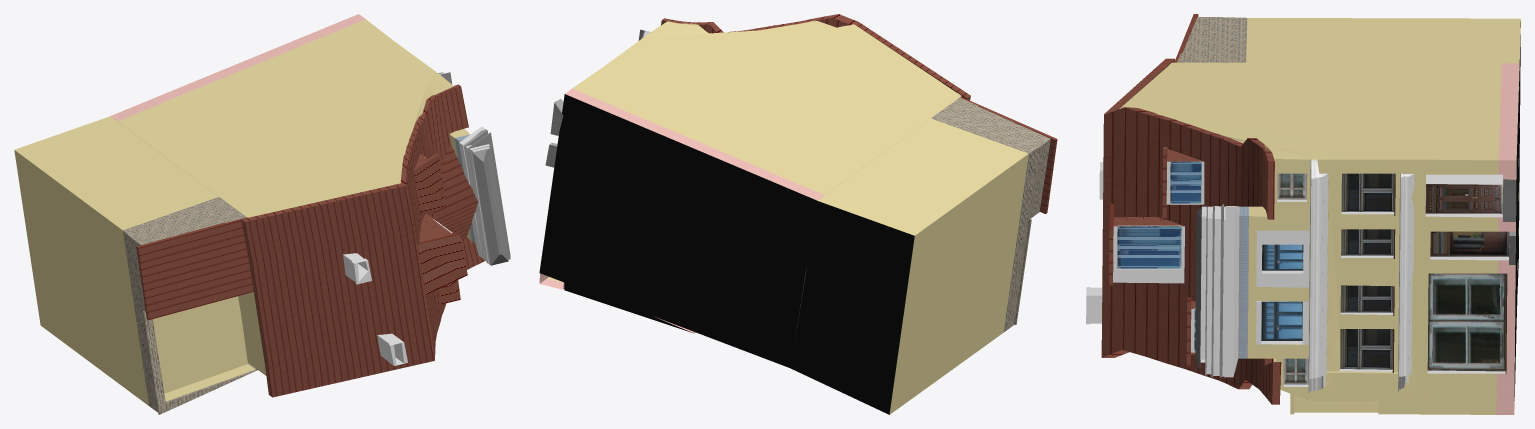
The model's file is nunne-5-origo.obj.
3 renders of one model, left to right at view 1: azimuth 30°, elevation 25°; view 2: azimuth 150°, elevation 25°; view 3: azimuth 270°, elevation 25°, orthographic. The views are drawn at different scales.
Parts seen in each view (by area): view 1: Line01, Box08, Object01, Object71, Plane02, Object95, Object97, Line21, Object02, Object96, Box39, Box40 (+1 smaller); view 2: Line01, Box08, Object01, Object71, Object104; view 3: Line01, Object01, Box08, Box34, Line21, Line22, Line23, Box38, Box33, Object102, Object95, Box39 (+2 smaller).
Part boxes in pixels (left/top/right/bottom): Line01: left=110, top=14, right=485, bottom=375; Box08: left=14, top=116, right=256, bottom=412; Object01: left=241, top=84, right=485, bottom=397; Object71: left=136, top=217, right=253, bottom=320; Plane02: left=433, top=145, right=478, bottom=238; Object95: left=472, top=148, right=508, bottom=265; Object97: left=417, top=233, right=467, bottom=294; Line21: left=463, top=129, right=510, bottom=265; Object02: left=142, top=310, right=257, bottom=414; Object96: left=413, top=153, right=446, bottom=212; Box39: left=377, top=333, right=407, bottom=365; Box40: left=343, top=253, right=371, bottom=284; Line01: left=539, top=20, right=961, bottom=368; Box08: left=790, top=97, right=1050, bottom=414; Object01: left=661, top=14, right=970, bottom=100; Object71: left=960, top=97, right=1057, bottom=213; Object104: left=564, top=282, right=695, bottom=333; Line01: left=1119, top=62, right=1519, bottom=401; Object01: left=1101, top=58, right=1281, bottom=404; Box08: left=1177, top=17, right=1520, bottom=285; Box34: left=1113, top=217, right=1184, bottom=283; Line21: left=1200, top=204, right=1225, bottom=377; Line22: left=1309, top=159, right=1328, bottom=391; Line23: left=1399, top=173, right=1414, bottom=389; Box38: left=1378, top=387, right=1514, bottom=414; Box33: left=1166, top=149, right=1204, bottom=204; Object102: left=1294, top=395, right=1378, bottom=412; Object95: left=1195, top=206, right=1201, bottom=372; Box39: left=1086, top=287, right=1102, bottom=324.
Size of the model in its own units: 18.81 by 11 by 14.84.
